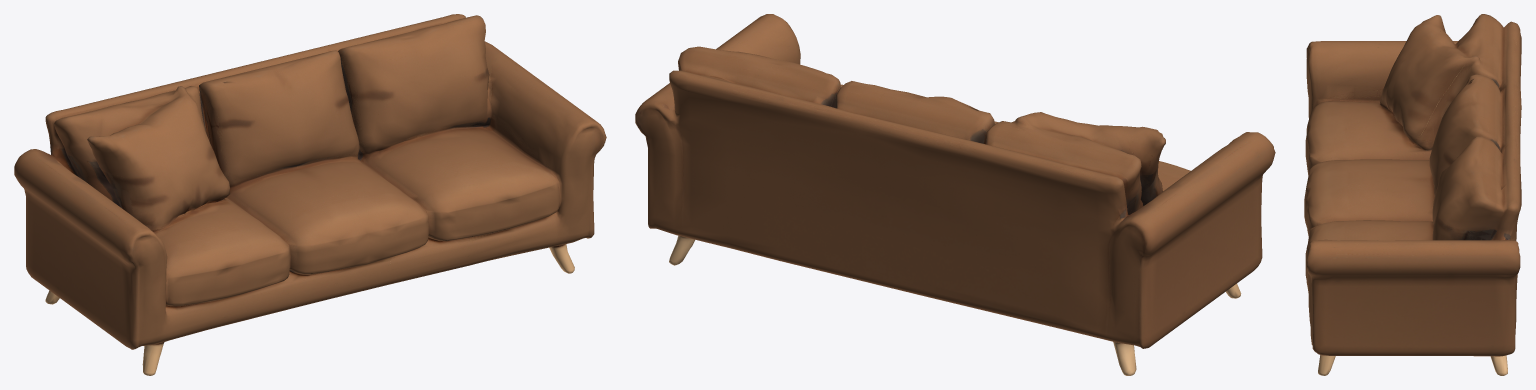
File: Meshy_AI_A_stylized_low_poly_s_0427231820_texture.fbx
3 renders of one model, left to right at view 1: azimuth 30°, elevation 25°; view 2: azimuth 150°, elevation 25°; view 3: azimuth 270°, elevation 25°, orthographic. The views are drawn at different scales.
Visible parts, largest first — view 1: Mesh_0; view 2: Mesh_0; view 3: Mesh_0.
Part boxes in pixels (x1,y1,x2,y2): Mesh_0: (14, 14, 606, 375); Mesh_0: (635, 14, 1275, 375); Mesh_0: (1304, 14, 1521, 375).
Size of the model in its own units: 191 by 75.54 by 81.41.
Materials: 1 (1 with a texture image).
